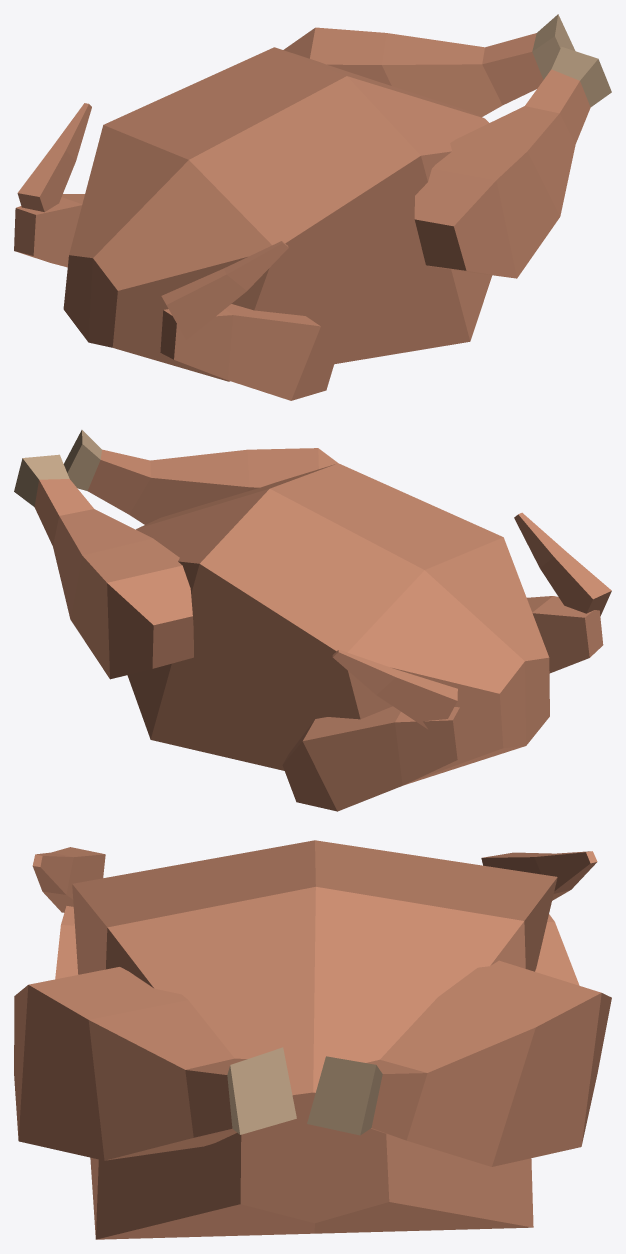
Rendered from Chicken.fbx.
3 renders of one model, top to bottom at view 1: azimuth 30°, elevation 25°; view 2: azimuth 150°, elevation 25°; view 3: azimuth 270°, elevation 25°, orthographic. The views are drawn at different scales.
Visible parts, largest first — view 1: Chicken; view 2: Chicken; view 3: Chicken.
Boxes of the visible parts, x1,y1,x2,y2 form: Chicken: (14,14,611,400); Chicken: (14,430,611,811); Chicken: (14,840,611,1239).
Size of the model in its own units: 42.17 by 17.85 by 29.55.
